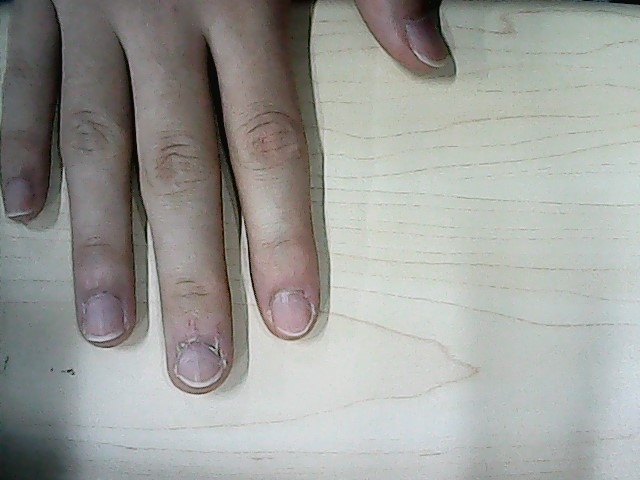nail: (175, 343, 223, 388), (83, 294, 123, 342), (271, 293, 313, 338), (408, 24, 449, 66), (5, 182, 32, 216)
